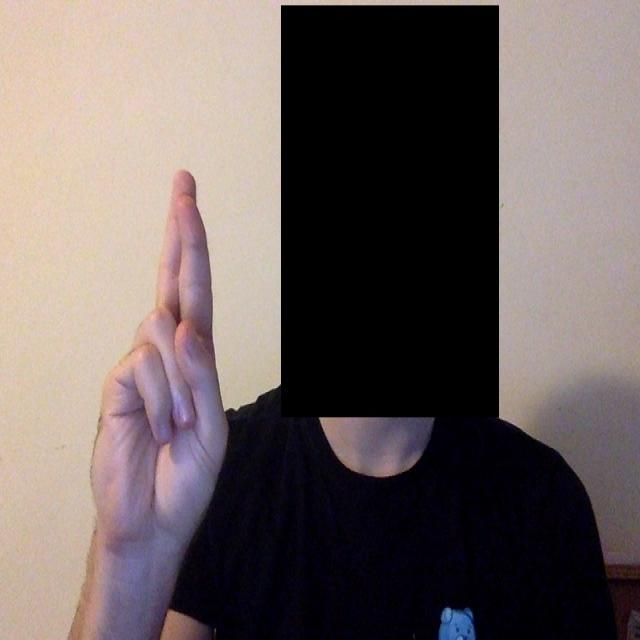R: (61, 144, 246, 570)
